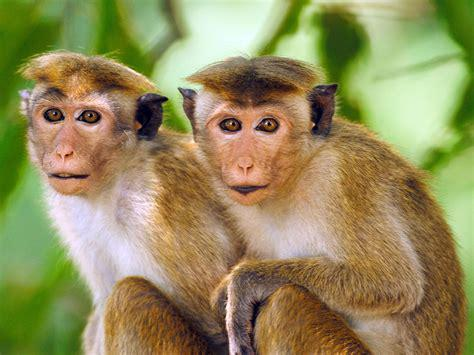monkey: (180, 59, 463, 354), (22, 56, 242, 355)
